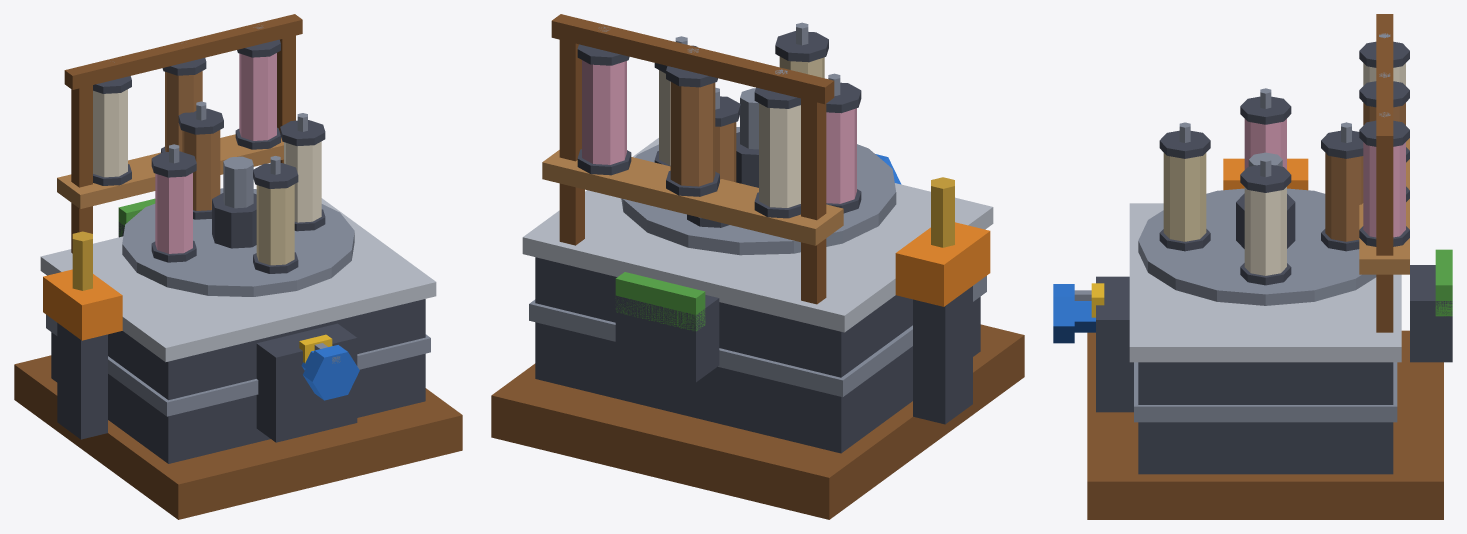
The model's file is spinner.glb.
3 views of the same model, side by side, from view 1: azimuth 30°, elevation 25°; view 2: azimuth 150°, elevation 25°; view 3: azimuth 270°, elevation 25° (orthographic). The views are drawn at different scales.
Visible parts, largest first — view 1: spinner, spin-up, spin-y; view 2: spinner, spin-up; view 3: spinner, spin-up, spin-y.
Part boxes in pixels (bbox=[...]): spinner: bbox=[14, 14, 462, 519]; spin-up: bbox=[122, 101, 354, 296]; spin-y: bbox=[301, 343, 359, 400]; spinner: bbox=[491, 14, 1024, 519]; spin-up: bbox=[621, 22, 896, 255]; spinner: bbox=[1087, 14, 1452, 519]; spin-up: bbox=[1138, 88, 1376, 305]; spin-y: bbox=[1053, 284, 1095, 343].
Size of the model in its own units: 0.94 by 0.96 by 0.94.
3 materials, 3 textured.
